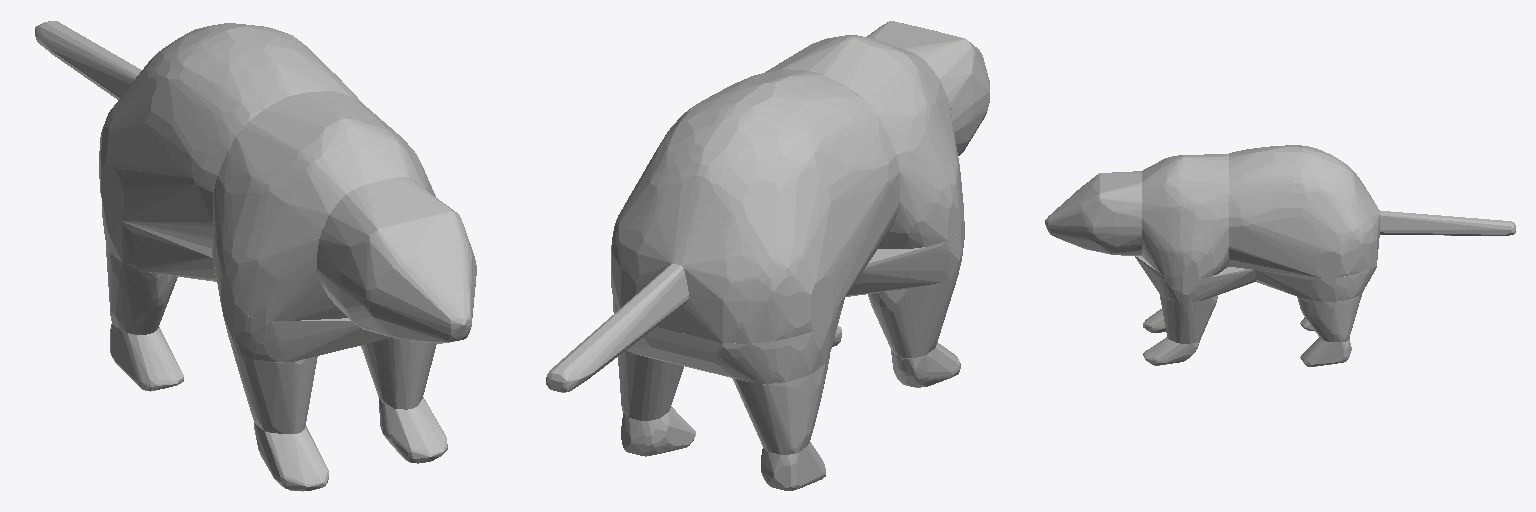
URDF robot description (root):
<robot name="root">
  <link name="link_coacd_convex_piece_0">
    <inertial>
      <origin xyz="0 0 0" rpy="0 0 0"/>
      <inertia ixx="8.90E-04" ixy="2.12E-06" ixz="2.71E-07" iyy="2.07E-06" iyz="-1.57E-04" izz="8.90E-04"/>
    </inertial>
    <visual>
      <origin xyz="0 0 0" rpy="0 0 0"/>
      <geometry>
        <mesh filename="coacd_convex_piece_0.obj" scale="1.0000E+00 1.0000E+00 1.0000E+00"/>
      </geometry>
      <material name="">
        <color rgba="7.50E-01 7.50E-01 7.50E-01 1"/>
      </material>
    </visual>
    <collision>
      <origin xyz="0 0 0" rpy="0 0 0"/>
      <geometry>
        <mesh filename="coacd_convex_piece_0.obj" scale="1.0000E+00 1.0000E+00 1.0000E+00"/>
      </geometry>
    </collision>
  </link>
  <link name="link_coacd_convex_piece_1">
    <inertial>
      <origin xyz="0 0 0" rpy="0 0 0"/>
      <inertia ixx="3.89E-03" ixy="-2.67E-06" ixz="-3.72E-06" iyy="4.34E-03" iyz="-1.96E-03" izz="2.45E-03"/>
    </inertial>
    <visual>
      <origin xyz="0 0 0" rpy="0 0 0"/>
      <geometry>
        <mesh filename="coacd_convex_piece_1.obj" scale="1.0000E+00 1.0000E+00 1.0000E+00"/>
      </geometry>
      <material name="">
        <color rgba="7.50E-01 7.50E-01 7.50E-01 1"/>
      </material>
    </visual>
    <collision>
      <origin xyz="0 0 0" rpy="0 0 0"/>
      <geometry>
        <mesh filename="coacd_convex_piece_1.obj" scale="1.0000E+00 1.0000E+00 1.0000E+00"/>
      </geometry>
    </collision>
  </link>
  <joint name="link_coacd_convex_piece_1_joint" type="fixed">
    <origin xyz="0 0 0" rpy="0 0 0"/>
    <parent link="link_coacd_convex_piece_0"/>
    <child link="link_coacd_convex_piece_1"/>
  </joint>
  <link name="link_coacd_convex_piece_2">
    <inertial>
      <origin xyz="0 0 0" rpy="0 0 0"/>
      <inertia ixx="3.15E-04" ixy="4.72E-07" ixz="-3.03E-07" iyy="2.55E-04" iyz="-7.02E-05" izz="7.33E-04"/>
    </inertial>
    <visual>
      <origin xyz="0 0 0" rpy="0 0 0"/>
      <geometry>
        <mesh filename="coacd_convex_piece_2.obj" scale="1.0000E+00 1.0000E+00 1.0000E+00"/>
      </geometry>
      <material name="">
        <color rgba="7.50E-01 7.50E-01 7.50E-01 1"/>
      </material>
    </visual>
    <collision>
      <origin xyz="0 0 0" rpy="0 0 0"/>
      <geometry>
        <mesh filename="coacd_convex_piece_2.obj" scale="1.0000E+00 1.0000E+00 1.0000E+00"/>
      </geometry>
    </collision>
  </link>
  <joint name="link_coacd_convex_piece_2_joint" type="fixed">
    <origin xyz="0 0 0" rpy="0 0 0"/>
    <parent link="link_coacd_convex_piece_1"/>
    <child link="link_coacd_convex_piece_2"/>
  </joint>
  <link name="link_coacd_convex_piece_3">
    <inertial>
      <origin xyz="0 0 0" rpy="0 0 0"/>
      <inertia ixx="1.91E-03" ixy="-2.66E-07" ixz="-2.69E-08" iyy="2.74E-04" iyz="-6.72E-04" izz="2.34E-03"/>
    </inertial>
    <visual>
      <origin xyz="0 0 0" rpy="0 0 0"/>
      <geometry>
        <mesh filename="coacd_convex_piece_3.obj" scale="1.0000E+00 1.0000E+00 1.0000E+00"/>
      </geometry>
      <material name="">
        <color rgba="7.50E-01 7.50E-01 7.50E-01 1"/>
      </material>
    </visual>
    <collision>
      <origin xyz="0 0 0" rpy="0 0 0"/>
      <geometry>
        <mesh filename="coacd_convex_piece_3.obj" scale="1.0000E+00 1.0000E+00 1.0000E+00"/>
      </geometry>
    </collision>
  </link>
  <joint name="link_coacd_convex_piece_3_joint" type="fixed">
    <origin xyz="0 0 0" rpy="0 0 0"/>
    <parent link="link_coacd_convex_piece_2"/>
    <child link="link_coacd_convex_piece_3"/>
  </joint>
  <link name="link_coacd_convex_piece_4">
    <inertial>
      <origin xyz="0 0 0" rpy="0 0 0"/>
      <inertia ixx="7.90E-03" ixy="1.11E-07" ixz="2.80E-07" iyy="2.23E-03" iyz="2.31E-03" izz="7.36E-03"/>
    </inertial>
    <visual>
      <origin xyz="0 0 0" rpy="0 0 0"/>
      <geometry>
        <mesh filename="coacd_convex_piece_4.obj" scale="1.0000E+00 1.0000E+00 1.0000E+00"/>
      </geometry>
      <material name="">
        <color rgba="7.50E-01 7.50E-01 7.50E-01 1"/>
      </material>
    </visual>
    <collision>
      <origin xyz="0 0 0" rpy="0 0 0"/>
      <geometry>
        <mesh filename="coacd_convex_piece_4.obj" scale="1.0000E+00 1.0000E+00 1.0000E+00"/>
      </geometry>
    </collision>
  </link>
  <joint name="link_coacd_convex_piece_4_joint" type="fixed">
    <origin xyz="0 0 0" rpy="0 0 0"/>
    <parent link="link_coacd_convex_piece_3"/>
    <child link="link_coacd_convex_piece_4"/>
  </joint>
  <link name="link_coacd_convex_piece_5">
    <inertial>
      <origin xyz="0 0 0" rpy="0 0 0"/>
      <inertia ixx="9.31E-03" ixy="-2.73E-07" ixz="-3.89E-08" iyy="4.37E-04" iyz="1.65E-03" izz="9.08E-03"/>
    </inertial>
    <visual>
      <origin xyz="0 0 0" rpy="0 0 0"/>
      <geometry>
        <mesh filename="coacd_convex_piece_5.obj" scale="1.0000E+00 1.0000E+00 1.0000E+00"/>
      </geometry>
      <material name="">
        <color rgba="7.50E-01 7.50E-01 7.50E-01 1"/>
      </material>
    </visual>
    <collision>
      <origin xyz="0 0 0" rpy="0 0 0"/>
      <geometry>
        <mesh filename="coacd_convex_piece_5.obj" scale="1.0000E+00 1.0000E+00 1.0000E+00"/>
      </geometry>
    </collision>
  </link>
  <joint name="link_coacd_convex_piece_5_joint" type="fixed">
    <origin xyz="0 0 0" rpy="0 0 0"/>
    <parent link="link_coacd_convex_piece_4"/>
    <child link="link_coacd_convex_piece_5"/>
  </joint>
  <link name="link_coacd_convex_piece_6">
    <inertial>
      <origin xyz="0 0 0" rpy="0 0 0"/>
      <inertia ixx="2.43E-04" ixy="-1.39E-04" ixz="1.34E-04" iyy="2.48E-04" iyz="1.14E-04" izz="2.32E-04"/>
    </inertial>
    <visual>
      <origin xyz="0 0 0" rpy="0 0 0"/>
      <geometry>
        <mesh filename="coacd_convex_piece_6.obj" scale="1.0000E+00 1.0000E+00 1.0000E+00"/>
      </geometry>
      <material name="">
        <color rgba="7.50E-01 7.50E-01 7.50E-01 1"/>
      </material>
    </visual>
    <collision>
      <origin xyz="0 0 0" rpy="0 0 0"/>
      <geometry>
        <mesh filename="coacd_convex_piece_6.obj" scale="1.0000E+00 1.0000E+00 1.0000E+00"/>
      </geometry>
    </collision>
  </link>
  <joint name="link_coacd_convex_piece_6_joint" type="fixed">
    <origin xyz="0 0 0" rpy="0 0 0"/>
    <parent link="link_coacd_convex_piece_5"/>
    <child link="link_coacd_convex_piece_6"/>
  </joint>
  <link name="link_coacd_convex_piece_7">
    <inertial>
      <origin xyz="0 0 0" rpy="0 0 0"/>
      <inertia ixx="2.21E-04" ixy="-4.94E-05" ixz="9.51E-05" iyy="2.36E-04" iyz="8.51E-05" izz="7.67E-05"/>
    </inertial>
    <visual>
      <origin xyz="0 0 0" rpy="0 0 0"/>
      <geometry>
        <mesh filename="coacd_convex_piece_7.obj" scale="1.0000E+00 1.0000E+00 1.0000E+00"/>
      </geometry>
      <material name="">
        <color rgba="7.50E-01 7.50E-01 7.50E-01 1"/>
      </material>
    </visual>
    <collision>
      <origin xyz="0 0 0" rpy="0 0 0"/>
      <geometry>
        <mesh filename="coacd_convex_piece_7.obj" scale="1.0000E+00 1.0000E+00 1.0000E+00"/>
      </geometry>
    </collision>
  </link>
  <joint name="link_coacd_convex_piece_7_joint" type="fixed">
    <origin xyz="0 0 0" rpy="0 0 0"/>
    <parent link="link_coacd_convex_piece_6"/>
    <child link="link_coacd_convex_piece_7"/>
  </joint>
  <link name="link_coacd_convex_piece_8">
    <inertial>
      <origin xyz="0 0 0" rpy="0 0 0"/>
      <inertia ixx="2.45E-04" ixy="1.40E-04" ixz="-1.35E-04" iyy="2.50E-04" iyz="1.15E-04" izz="2.35E-04"/>
    </inertial>
    <visual>
      <origin xyz="0 0 0" rpy="0 0 0"/>
      <geometry>
        <mesh filename="coacd_convex_piece_8.obj" scale="1.0000E+00 1.0000E+00 1.0000E+00"/>
      </geometry>
      <material name="">
        <color rgba="7.50E-01 7.50E-01 7.50E-01 1"/>
      </material>
    </visual>
    <collision>
      <origin xyz="0 0 0" rpy="0 0 0"/>
      <geometry>
        <mesh filename="coacd_convex_piece_8.obj" scale="1.0000E+00 1.0000E+00 1.0000E+00"/>
      </geometry>
    </collision>
  </link>
  <joint name="link_coacd_convex_piece_8_joint" type="fixed">
    <origin xyz="0 0 0" rpy="0 0 0"/>
    <parent link="link_coacd_convex_piece_7"/>
    <child link="link_coacd_convex_piece_8"/>
  </joint>
  <link name="link_coacd_convex_piece_9">
    <inertial>
      <origin xyz="0 0 0" rpy="0 0 0"/>
      <inertia ixx="2.21E-04" ixy="4.95E-05" ixz="-9.54E-05" iyy="2.37E-04" iyz="8.50E-05" izz="7.69E-05"/>
    </inertial>
    <visual>
      <origin xyz="0 0 0" rpy="0 0 0"/>
      <geometry>
        <mesh filename="coacd_convex_piece_9.obj" scale="1.0000E+00 1.0000E+00 1.0000E+00"/>
      </geometry>
      <material name="">
        <color rgba="7.50E-01 7.50E-01 7.50E-01 1"/>
      </material>
    </visual>
    <collision>
      <origin xyz="0 0 0" rpy="0 0 0"/>
      <geometry>
        <mesh filename="coacd_convex_piece_9.obj" scale="1.0000E+00 1.0000E+00 1.0000E+00"/>
      </geometry>
    </collision>
  </link>
  <joint name="link_coacd_convex_piece_9_joint" type="fixed">
    <origin xyz="0 0 0" rpy="0 0 0"/>
    <parent link="link_coacd_convex_piece_8"/>
    <child link="link_coacd_convex_piece_9"/>
  </joint>
  <link name="link_coacd_convex_piece_10">
    <inertial>
      <origin xyz="0 0 0" rpy="0 0 0"/>
      <inertia ixx="6.89E-04" ixy="2.56E-04" ixz="1.41E-04" iyy="2.73E-04" iyz="-3.89E-04" izz="6.48E-04"/>
    </inertial>
    <visual>
      <origin xyz="0 0 0" rpy="0 0 0"/>
      <geometry>
        <mesh filename="coacd_convex_piece_10.obj" scale="1.0000E+00 1.0000E+00 1.0000E+00"/>
      </geometry>
      <material name="">
        <color rgba="7.50E-01 7.50E-01 7.50E-01 1"/>
      </material>
    </visual>
    <collision>
      <origin xyz="0 0 0" rpy="0 0 0"/>
      <geometry>
        <mesh filename="coacd_convex_piece_10.obj" scale="1.0000E+00 1.0000E+00 1.0000E+00"/>
      </geometry>
    </collision>
  </link>
  <joint name="link_coacd_convex_piece_10_joint" type="fixed">
    <origin xyz="0 0 0" rpy="0 0 0"/>
    <parent link="link_coacd_convex_piece_9"/>
    <child link="link_coacd_convex_piece_10"/>
  </joint>
  <link name="link_coacd_convex_piece_11">
    <inertial>
      <origin xyz="0 0 0" rpy="0 0 0"/>
      <inertia ixx="4.43E-04" ixy="9.63E-05" ixz="8.51E-05" iyy="2.33E-04" iyz="-2.57E-04" izz="2.82E-04"/>
    </inertial>
    <visual>
      <origin xyz="0 0 0" rpy="0 0 0"/>
      <geometry>
        <mesh filename="coacd_convex_piece_11.obj" scale="1.0000E+00 1.0000E+00 1.0000E+00"/>
      </geometry>
      <material name="">
        <color rgba="7.50E-01 7.50E-01 7.50E-01 1"/>
      </material>
    </visual>
    <collision>
      <origin xyz="0 0 0" rpy="0 0 0"/>
      <geometry>
        <mesh filename="coacd_convex_piece_11.obj" scale="1.0000E+00 1.0000E+00 1.0000E+00"/>
      </geometry>
    </collision>
  </link>
  <joint name="link_coacd_convex_piece_11_joint" type="fixed">
    <origin xyz="0 0 0" rpy="0 0 0"/>
    <parent link="link_coacd_convex_piece_10"/>
    <child link="link_coacd_convex_piece_11"/>
  </joint>
  <link name="link_coacd_convex_piece_12">
    <inertial>
      <origin xyz="0 0 0" rpy="0 0 0"/>
      <inertia ixx="6.68E-04" ixy="-2.50E-04" ixz="-1.37E-04" iyy="2.63E-04" iyz="-3.77E-04" izz="6.33E-04"/>
    </inertial>
    <visual>
      <origin xyz="0 0 0" rpy="0 0 0"/>
      <geometry>
        <mesh filename="coacd_convex_piece_12.obj" scale="1.0000E+00 1.0000E+00 1.0000E+00"/>
      </geometry>
      <material name="">
        <color rgba="7.50E-01 7.50E-01 7.50E-01 1"/>
      </material>
    </visual>
    <collision>
      <origin xyz="0 0 0" rpy="0 0 0"/>
      <geometry>
        <mesh filename="coacd_convex_piece_12.obj" scale="1.0000E+00 1.0000E+00 1.0000E+00"/>
      </geometry>
    </collision>
  </link>
  <joint name="link_coacd_convex_piece_12_joint" type="fixed">
    <origin xyz="0 0 0" rpy="0 0 0"/>
    <parent link="link_coacd_convex_piece_11"/>
    <child link="link_coacd_convex_piece_12"/>
  </joint>
  <link name="link_coacd_convex_piece_13">
    <inertial>
      <origin xyz="0 0 0" rpy="0 0 0"/>
      <inertia ixx="4.72E-04" ixy="-1.03E-04" ixz="-9.09E-05" iyy="2.47E-04" iyz="-2.74E-04" izz="3.02E-04"/>
    </inertial>
    <visual>
      <origin xyz="0 0 0" rpy="0 0 0"/>
      <geometry>
        <mesh filename="coacd_convex_piece_13.obj" scale="1.0000E+00 1.0000E+00 1.0000E+00"/>
      </geometry>
      <material name="">
        <color rgba="7.50E-01 7.50E-01 7.50E-01 1"/>
      </material>
    </visual>
    <collision>
      <origin xyz="0 0 0" rpy="0 0 0"/>
      <geometry>
        <mesh filename="coacd_convex_piece_13.obj" scale="1.0000E+00 1.0000E+00 1.0000E+00"/>
      </geometry>
    </collision>
  </link>
  <joint name="link_coacd_convex_piece_13_joint" type="fixed">
    <origin xyz="0 0 0" rpy="0 0 0"/>
    <parent link="link_coacd_convex_piece_12"/>
    <child link="link_coacd_convex_piece_13"/>
  </joint>
</robot>

--- Render facts (derived) ---
Views: 3 orthographic renders of the robot side by side, from view 1: azimuth 30°, elevation 25°; view 2: azimuth 150°, elevation 25°; view 3: azimuth 270°, elevation 25°.
Model root with 14 links and 13 joints (13 fixed), rooted at link_coacd_convex_piece_0, posed all joints at 0.
Links seen in each view (by area): view 1: link_coacd_convex_piece_4, link_coacd_convex_piece_1, link_coacd_convex_piece_5, link_coacd_convex_piece_3, link_coacd_convex_piece_12, link_coacd_convex_piece_2, link_coacd_convex_piece_10, link_coacd_convex_piece_8, link_coacd_convex_piece_0, link_coacd_convex_piece_13, link_coacd_convex_piece_9, link_coacd_convex_piece_11; view 2: link_coacd_convex_piece_1, link_coacd_convex_piece_4, link_coacd_convex_piece_2, link_coacd_convex_piece_0, link_coacd_convex_piece_5, link_coacd_convex_piece_8, link_coacd_convex_piece_12, link_coacd_convex_piece_3, link_coacd_convex_piece_6, link_coacd_convex_piece_7, link_coacd_convex_piece_9, link_coacd_convex_piece_13; view 3: link_coacd_convex_piece_1, link_coacd_convex_piece_4, link_coacd_convex_piece_5, link_coacd_convex_piece_0, link_coacd_convex_piece_2, link_coacd_convex_piece_3, link_coacd_convex_piece_6, link_coacd_convex_piece_10, link_coacd_convex_piece_7, link_coacd_convex_piece_11.
Link boxes in pixels (x1,y1,x2,y2): link_coacd_convex_piece_4: (212,91,435,320); link_coacd_convex_piece_1: (99,23,362,257); link_coacd_convex_piece_5: (317,177,476,343); link_coacd_convex_piece_3: (218,289,391,361); link_coacd_convex_piece_12: (233,351,317,433); link_coacd_convex_piece_2: (102,203,216,281); link_coacd_convex_piece_10: (361,338,436,409); link_coacd_convex_piece_8: (106,246,177,334); link_coacd_convex_piece_0: (35,21,141,99); link_coacd_convex_piece_13: (254,423,328,491); link_coacd_convex_piece_9: (110,324,183,391); link_coacd_convex_piece_11: (379,397,447,463); link_coacd_convex_piece_1: (611,69,899,343); link_coacd_convex_piece_4: (765,35,964,248); link_coacd_convex_piece_2: (613,299,844,383); link_coacd_convex_piece_0: (546,264,688,392); link_coacd_convex_piece_5: (867,21,989,155); link_coacd_convex_piece_8: (732,356,829,454); link_coacd_convex_piece_12: (868,273,958,357); link_coacd_convex_piece_3: (846,223,964,296); link_coacd_convex_piece_6: (618,351,683,420); link_coacd_convex_piece_7: (621,406,695,456); link_coacd_convex_piece_9: (761,442,825,490); link_coacd_convex_piece_13: (891,342,960,387); link_coacd_convex_piece_1: (1229,145,1379,277); link_coacd_convex_piece_4: (1142,154,1228,279); link_coacd_convex_piece_5: (1045,171,1141,255); link_coacd_convex_piece_0: (1380,211,1515,235); link_coacd_convex_piece_2: (1256,263,1376,301); link_coacd_convex_piece_3: (1135,256,1255,303); link_coacd_convex_piece_6: (1297,292,1362,341); link_coacd_convex_piece_10: (1160,295,1217,343); link_coacd_convex_piece_7: (1300,337,1351,366); link_coacd_convex_piece_11: (1143,337,1199,365).
Bounding box of the posed robot: 0.5713 × 1.95 × 0.8887 m (x, y, z).
Meshes: 14 distinct files referenced, 14 mesh visuals loaded (14 OBJ).
